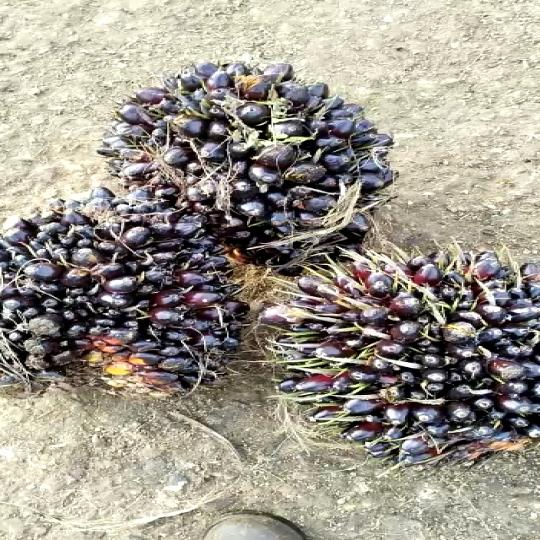mentah: (75, 56, 426, 265), (250, 246, 540, 497), (0, 177, 253, 394)
